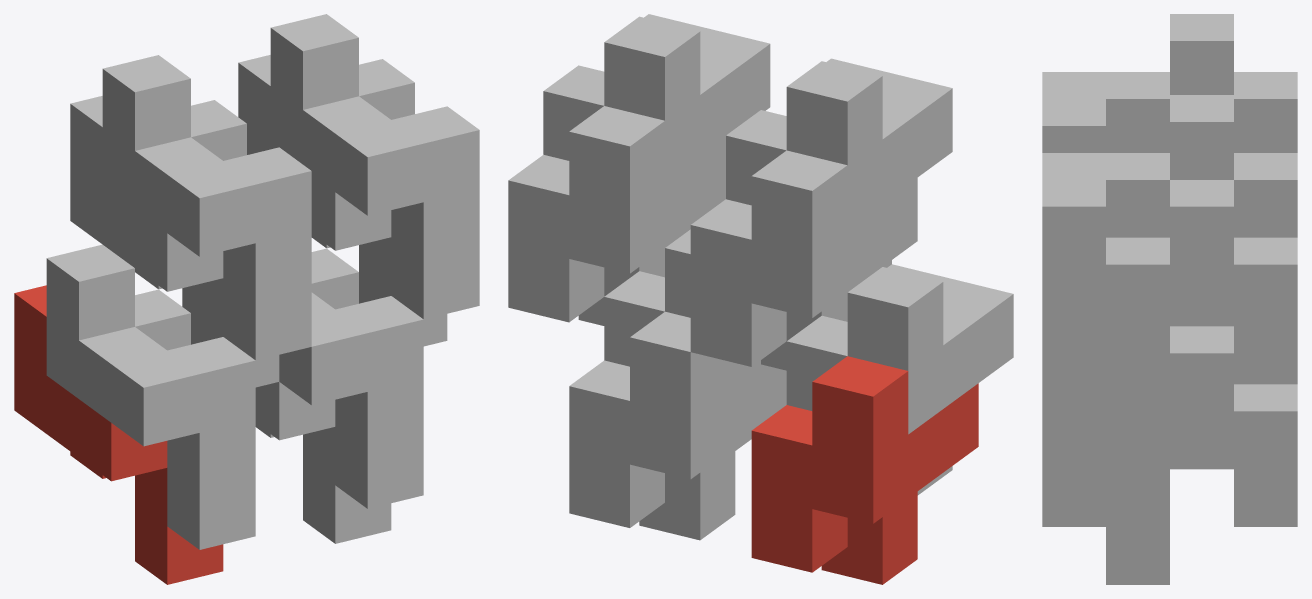
The model's file is tiling.obj.
3 renders of one model, left to right at view 1: azimuth 30°, elevation 25°; view 2: azimuth 150°, elevation 25°; view 3: azimuth 270°, elevation 25°, orthographic. The views are drawn at different scales.
Parts seen in each view (by area): view 1: copy_1_domain_2, copy_1_domain_4, copy_1_domain_8, copy_1_domain_6, copy_1_domain_1, copy_1_domain_3, copy_1_domain_7, copy_1_domain_5; view 2: copy_1_domain_1, copy_1_domain_5, copy_1_domain_3, copy_1_domain_7, copy_1_domain_2, copy_1_domain_4, copy_1_domain_8, copy_1_domain_6; view 3: copy_1_domain_8, copy_1_domain_7, copy_1_domain_6, copy_1_domain_5, copy_1_domain_4, copy_1_domain_3.
Part boxes in pixels (<box>): copy_1_domain_2: <box>46,244,255,549</box>; copy_1_domain_4: <box>102,55,311,360</box>; copy_1_domain_8: <box>270,14,479,319</box>; copy_1_domain_6: <box>279,248,423,508</box>; copy_1_domain_1: <box>14,285,223,584</box>; copy_1_domain_3: <box>70,96,279,387</box>; copy_1_domain_7: <box>238,55,447,346</box>; copy_1_domain_5: <box>182,286,391,543</box>; copy_1_domain_1: <box>751,356,978,584</box>; copy_1_domain_5: <box>569,311,786,540</box>; copy_1_domain_3: <box>690,150,917,370</box>; copy_1_domain_7: <box>508,106,725,325</box>; copy_1_domain_2: <box>786,264,1013,495</box>; copy_1_domain_4: <box>726,58,952,267</box>; copy_1_domain_8: <box>543,14,770,183</box>; copy_1_domain_6: <box>604,229,760,450</box>; copy_1_domain_8: <box>1042,95,1233,380</box>; copy_1_domain_7: <box>1106,153,1297,438</box>; copy_1_domain_6: <box>1042,322,1233,526</box>; copy_1_domain_5: <box>1106,380,1297,584</box>; copy_1_domain_4: <box>1042,14,1233,152</box>; copy_1_domain_3: <box>1234,72,1297,152</box>.
Size of the model in its own units: 6 by 8 by 4.
